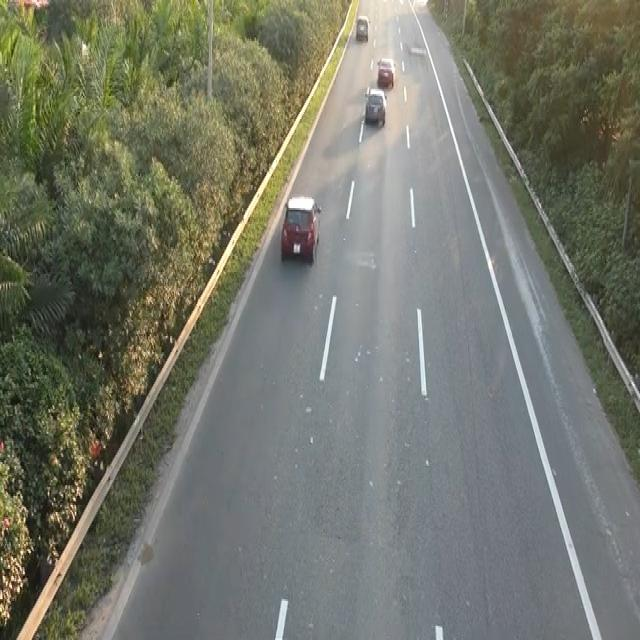bus: (278, 192, 323, 270), (364, 84, 386, 126)
